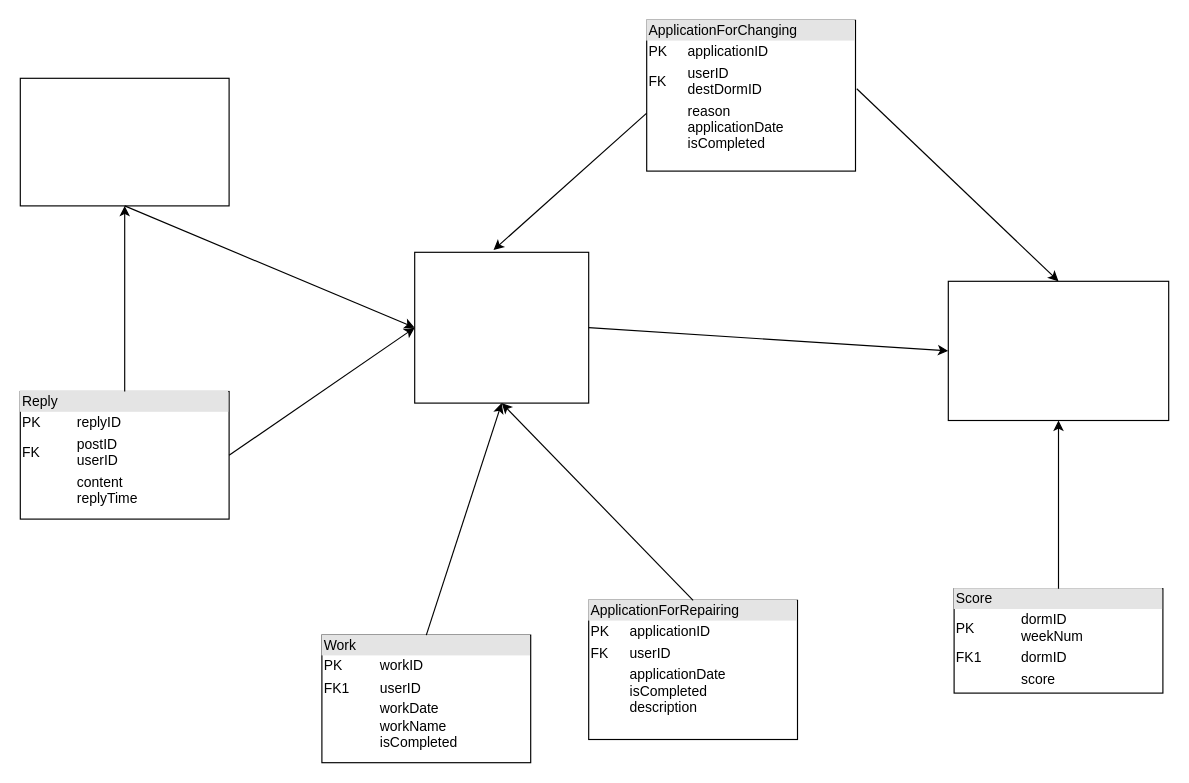
The diagram is 1189 pixels wide and 783 high, and some of its shapes have lost their labels. The centre of each missing label's shape, as x and y in pixels:
Dorm PK dormID FK dormName leader maxNum: point (1058, 350)
Post PK postID FK userID content postTime: point (124, 141)
User PK userID FK dormID userName password access: point (501, 327)
